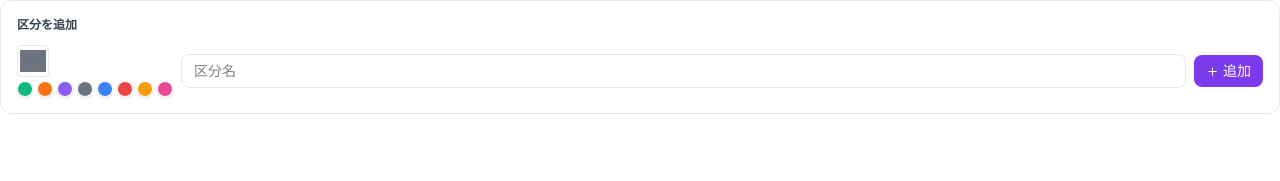
Scenario: AddCategoryForm › 追加の失敗が5xxなら、空や英語ではなく代わりの文言を出す
This screenshot has width=1280, height=181.
Type "練習" into the field with placeholder "区分名". click: (684, 71)
box: [181,54,1186,88]
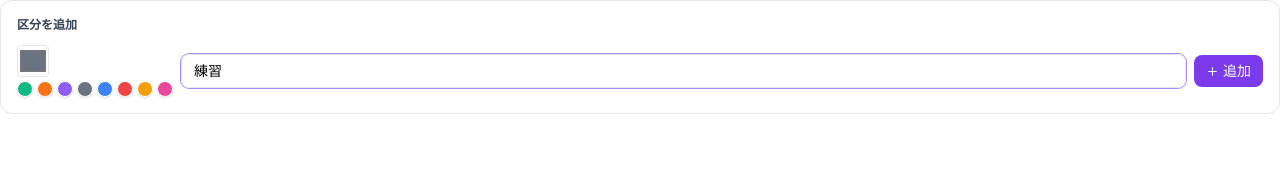
Click the button "追加". click: (1228, 71)
box: [1194,55,1263,87]
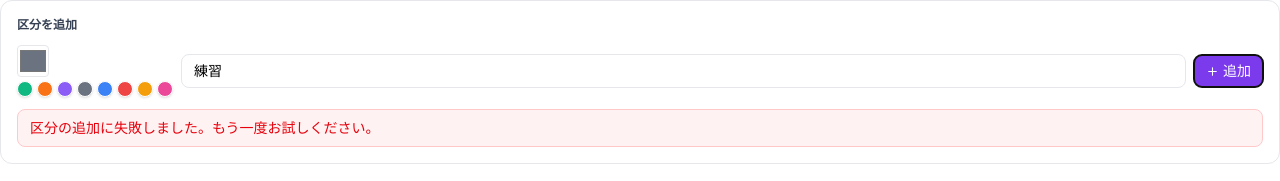
Expected: the message reads "区分の追加に失敗しました。もう一度お試しください。", [30,119,380,136]
